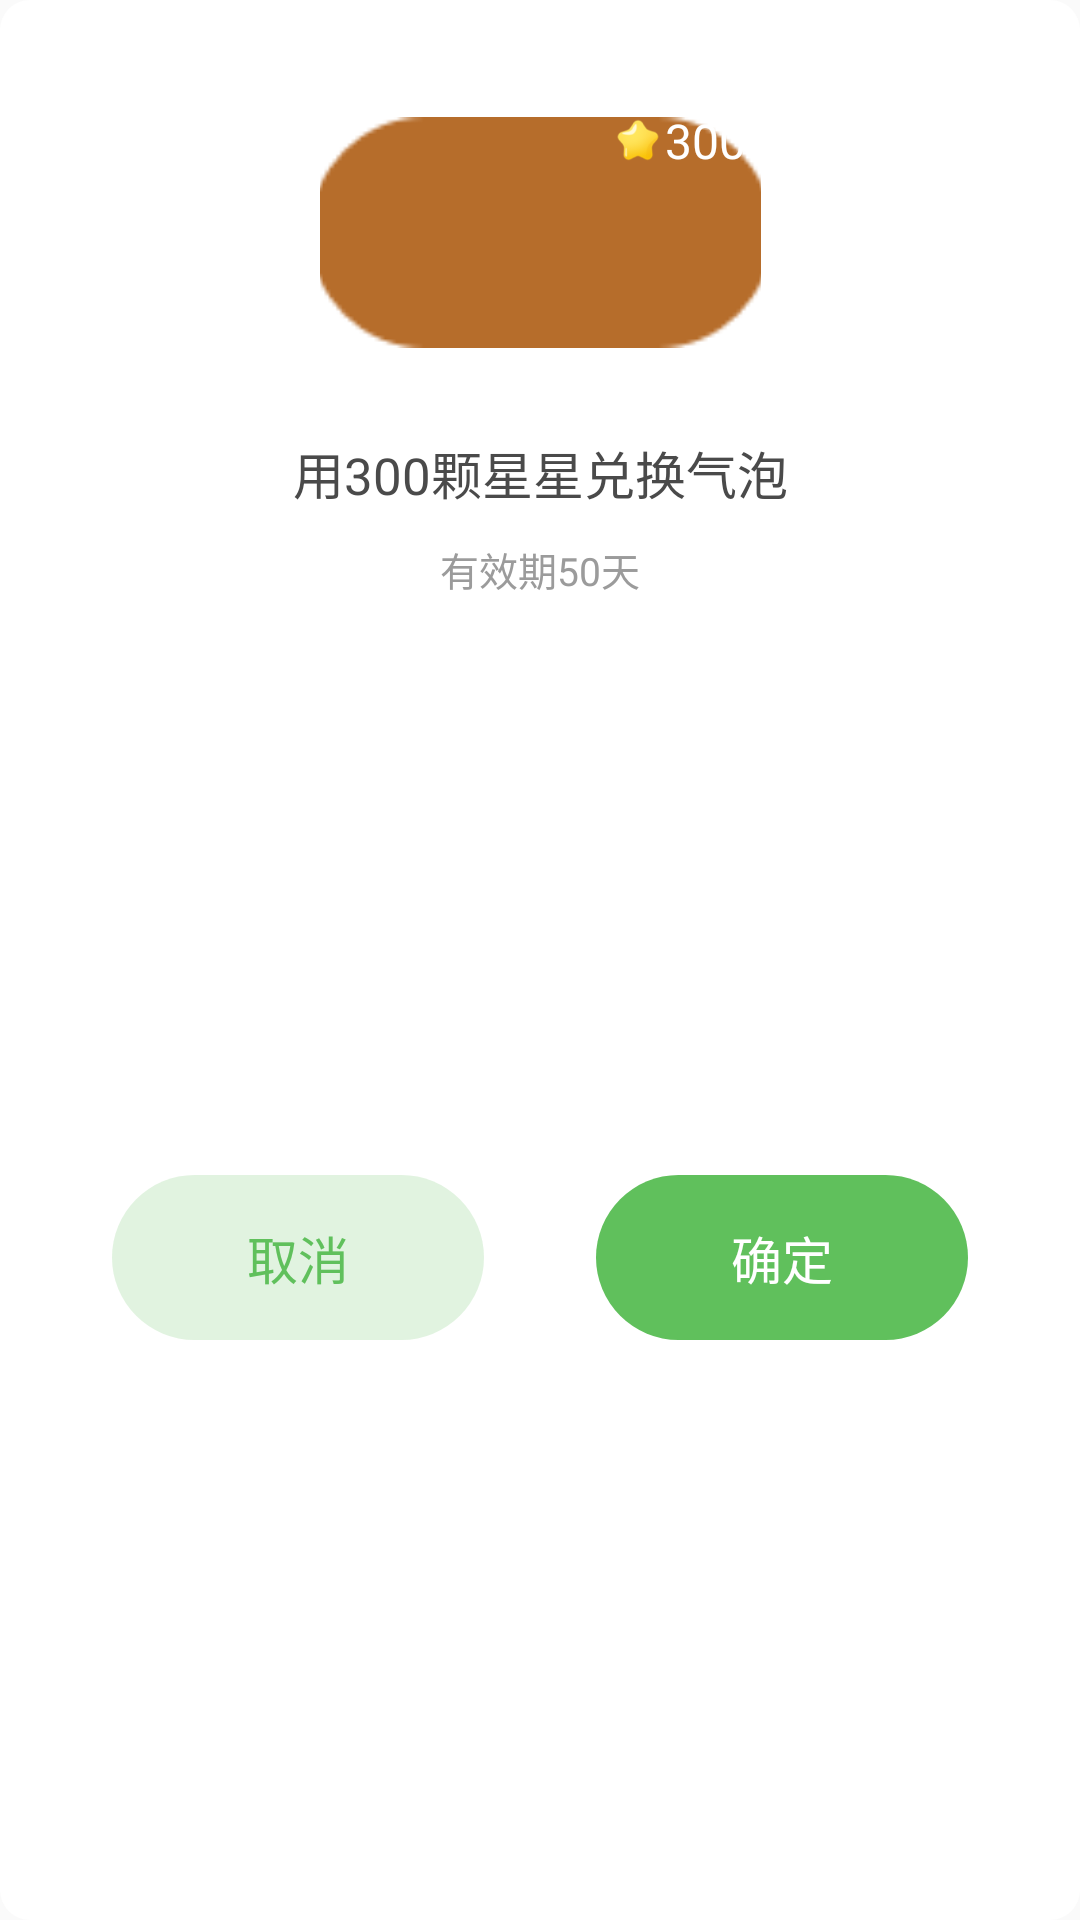

Where icons sit on this 1080*1920 app screen, as bbox=[x1, y1, x2, y2]:
keyboard bubble star: bbox=[617, 120, 658, 160]
